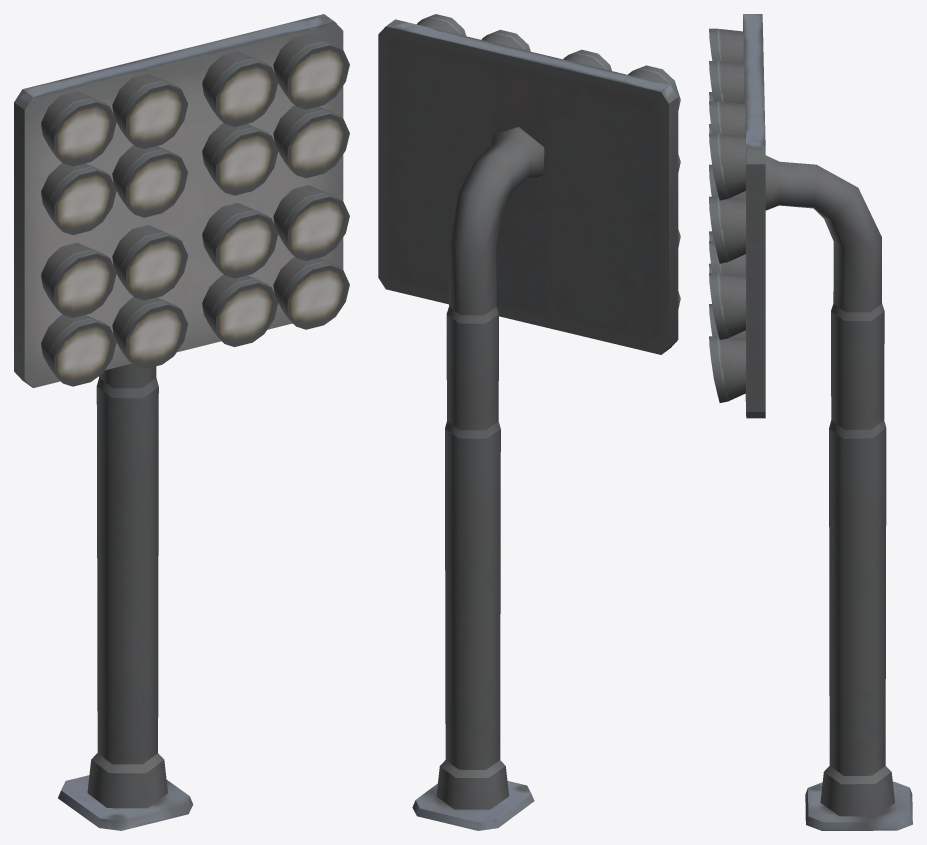
File: pref_sm_beach_techbiglight_lv3.fbx
The picture shows the model from 3 angles, left to right: view 1: azimuth 30°, elevation 25°; view 2: azimuth 150°, elevation 25°; view 3: azimuth 270°, elevation 25°; orthographic projection. The views are drawn at different scales.
Visible parts, largest first — view 1: pref_sm_beach_techbiglight_lv3; view 2: pref_sm_beach_techbiglight_lv3; view 3: pref_sm_beach_techbiglight_lv3.
Part boxes in pixels (bbox=[...]): pref_sm_beach_techbiglight_lv3: bbox=[14, 14, 349, 830]; pref_sm_beach_techbiglight_lv3: bbox=[378, 14, 680, 830]; pref_sm_beach_techbiglight_lv3: bbox=[709, 14, 912, 830].
Bounding box in the file's own units: 1.91 × 4.49 × 1.14.
